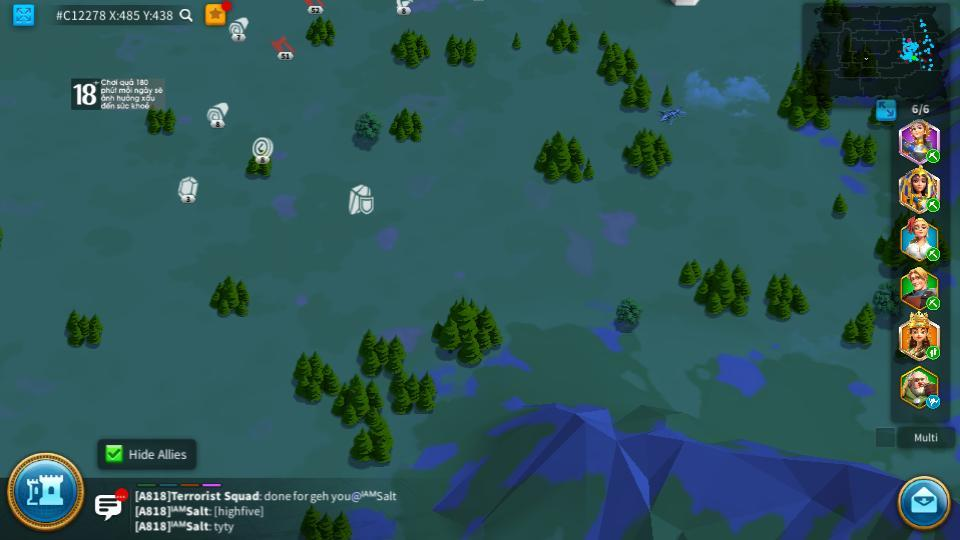gem-z-out: (175, 177, 199, 202)
march_farming: (925, 197, 941, 212), (925, 149, 942, 162), (925, 297, 941, 310), (926, 248, 940, 260)
march_idle: (925, 396, 942, 408)
march_marching: (925, 347, 941, 359)
